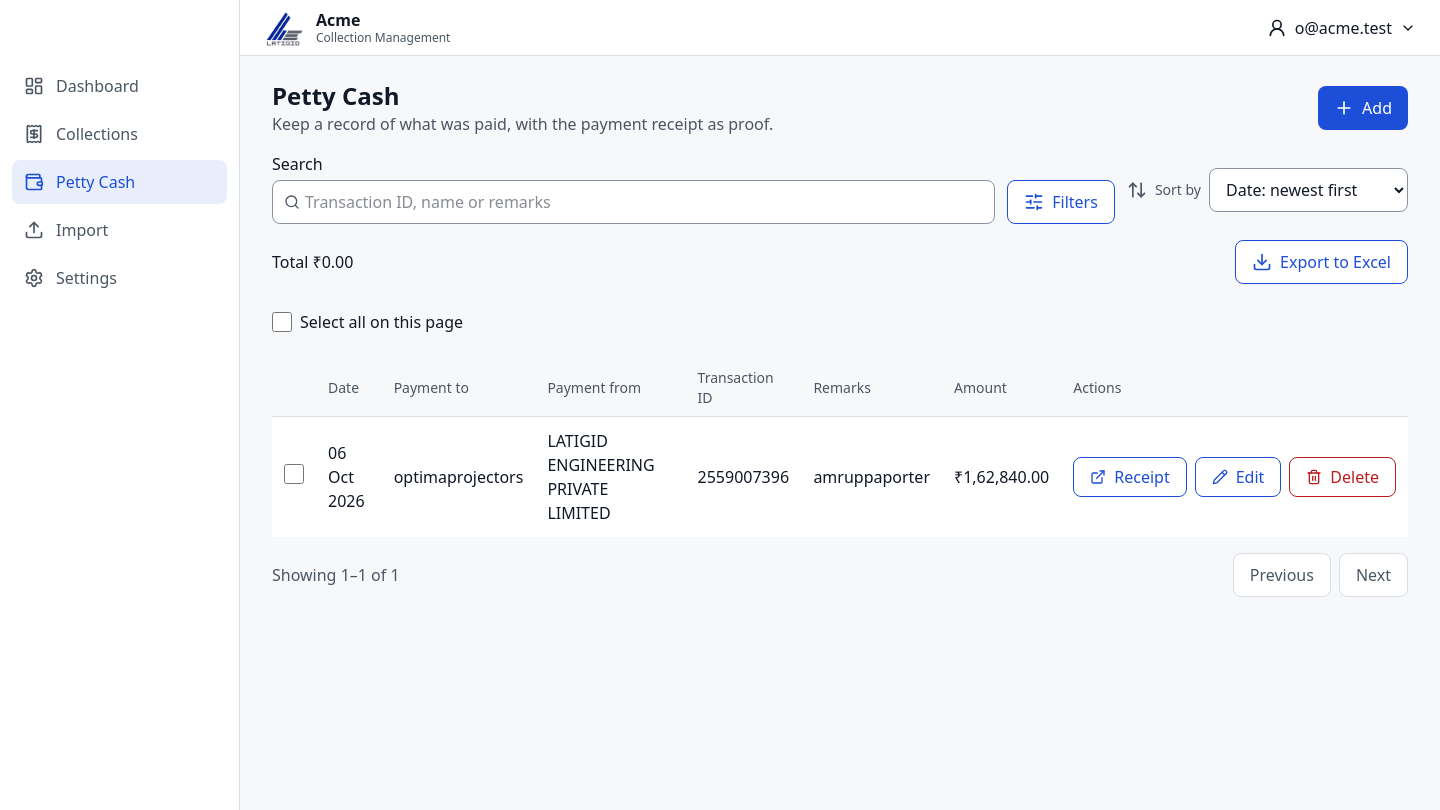
Test: Petty Cash › deletes an entry after confirming
Click the button with aria-label "Delete 2559007396". click: (1343, 477)
box: [1289,457,1396,497]
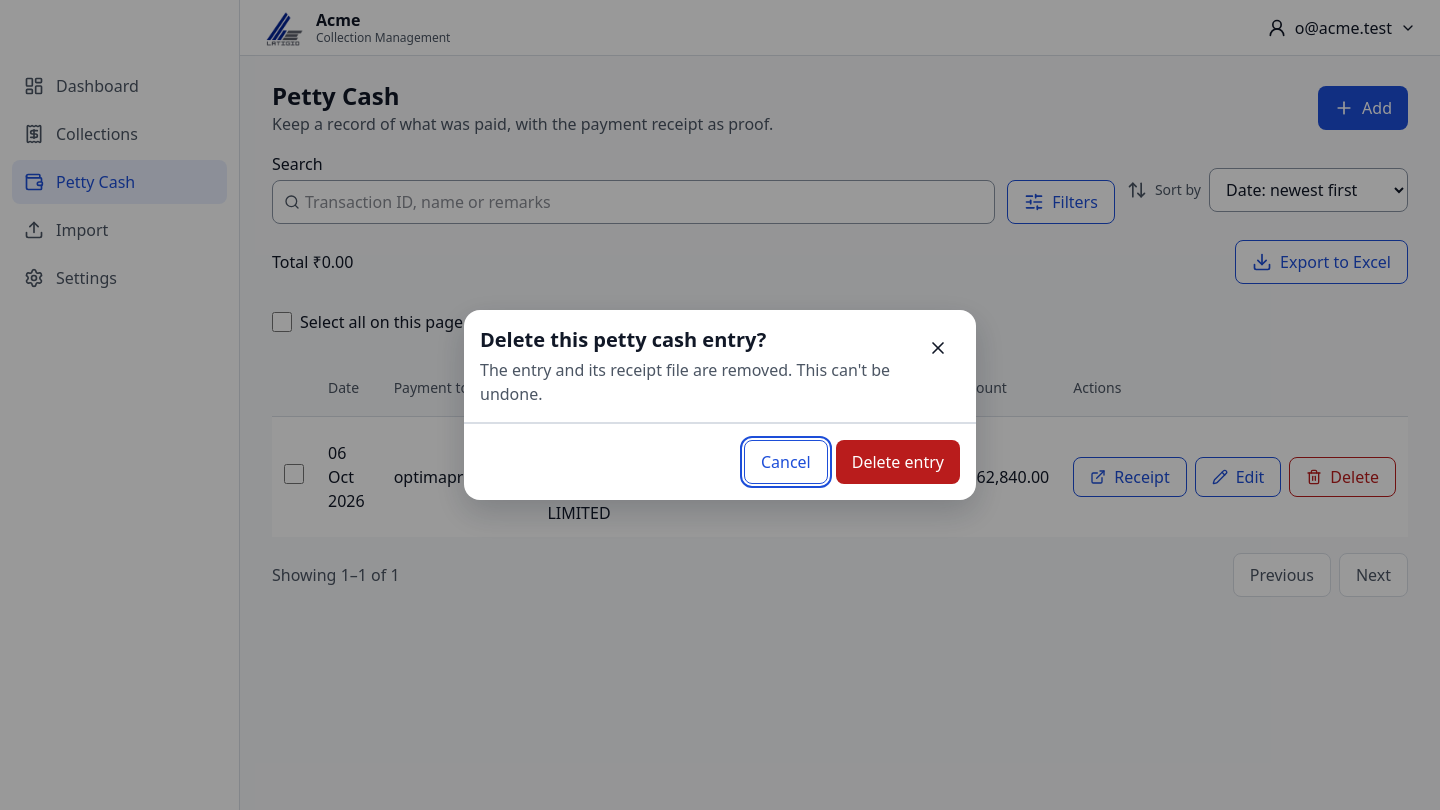
Click the button "Delete entry". click: (898, 462)
box: [836,440,960,484]
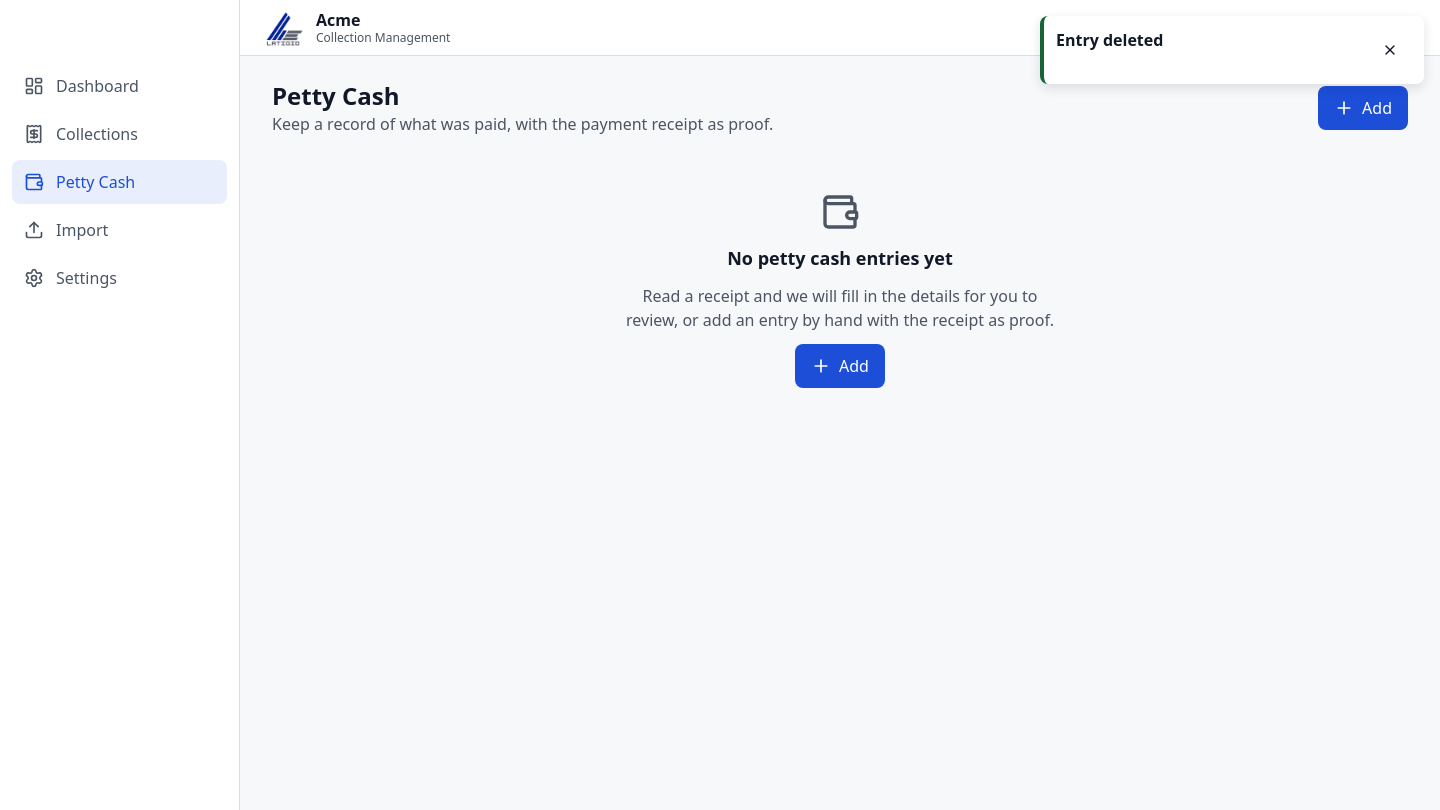
Check: the heading "No petty cash entries yet" is shown, box [727,244,953,272]
